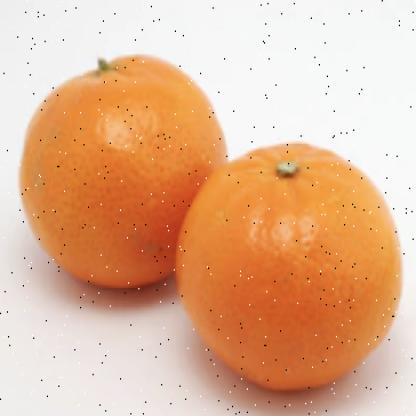fresh: (21, 53, 404, 397)
